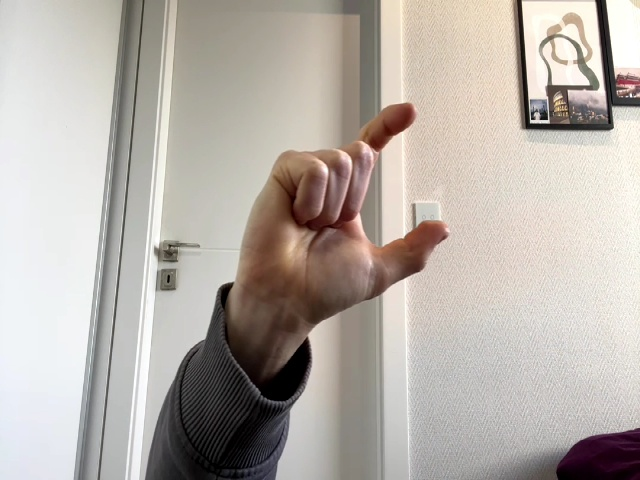C: (236, 103, 449, 323)
